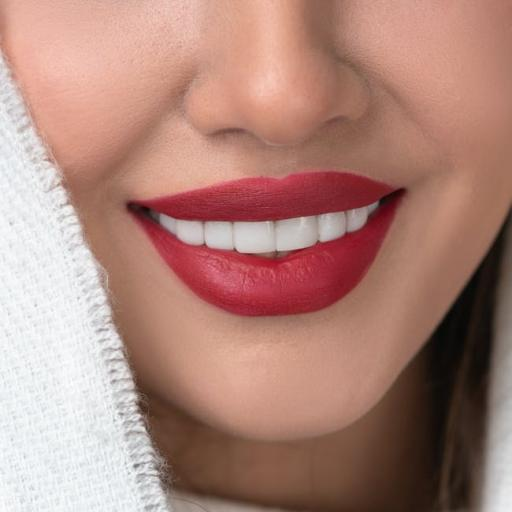lipstick: (129, 171, 404, 315)
